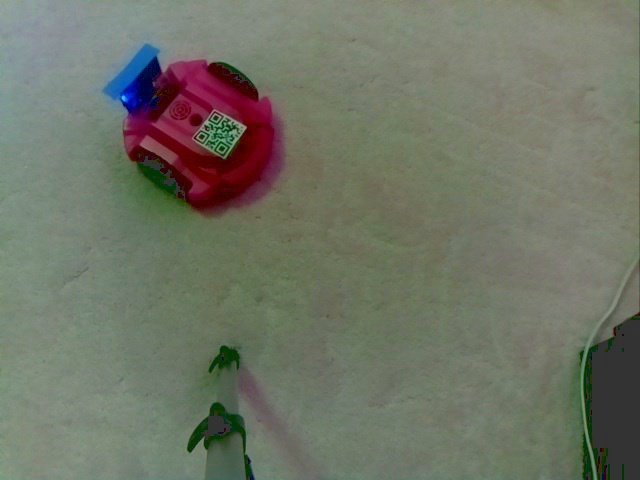board: (93, 40, 163, 104)
chassis: (95, 39, 281, 209)
